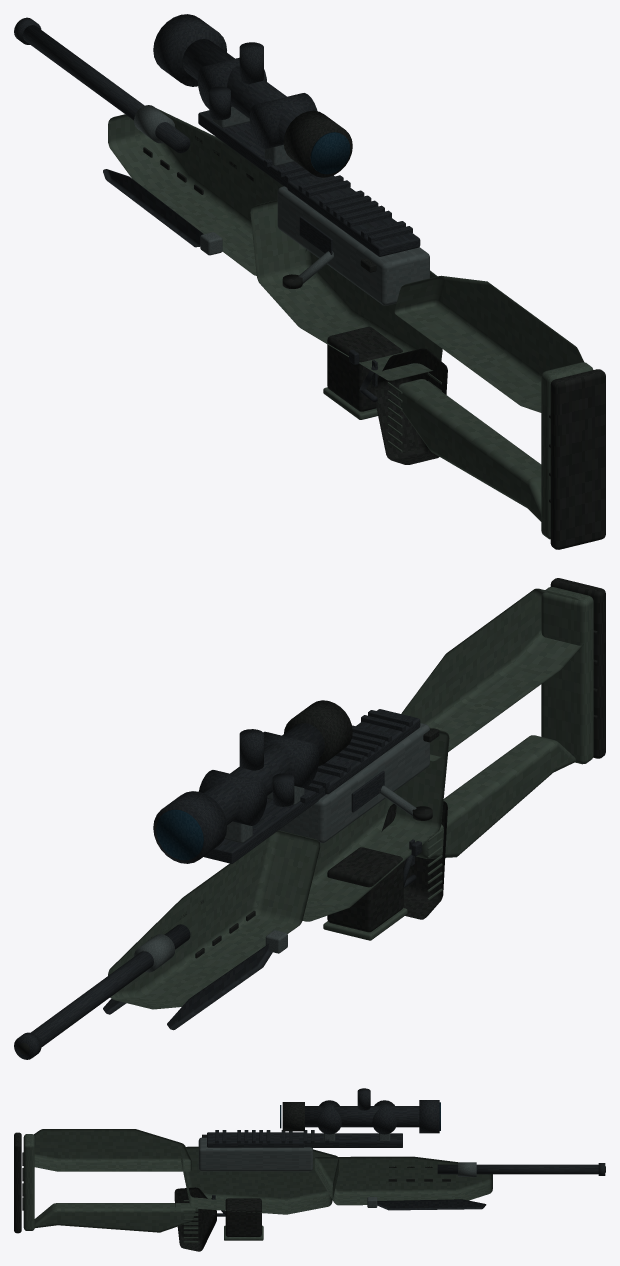
Rendered from scout-world.glb.
3 renders of one model, top to bottom at view 1: azimuth 30°, elevation 25°; view 2: azimuth 150°, elevation 25°; view 3: azimuth 270°, elevation 25°, orthographic. The views are drawn at different scales.
Parts seen in each view (by area): view 1: cheek-comb, forend, central-stock, rubber-butt-pad, lower-stock-strut, receiver, pistol-grip, magazine, free-floating-barrel, scope-tube, front-objective, receiver-top-rail (+10 smaller); view 2: forend, cheek-comb, central-stock, butt-frame, lower-stock-strut, receiver, magazine, free-floating-barrel, scope-tube, rubber-butt-pad, pistol-grip, scope-rail (+12 smaller); view 3: forend, cheek-comb, central-stock, lower-stock-strut, receiver, scope-tube, free-floating-barrel, magazine, pistol-grip, receiver-top-rail, scope-rail, butt-frame (+8 smaller).
Boxes of the visible parts, bbox=[...] form: cheek-comb: bbox=[394, 275, 583, 412]; forend: bbox=[108, 108, 306, 275]; central-stock: bbox=[250, 200, 442, 380]; rubber-butt-pad: bbox=[550, 369, 605, 549]; lower-stock-strut: bbox=[398, 379, 541, 521]; receiver: bbox=[277, 186, 429, 305]; pistol-grip: bbox=[373, 348, 447, 464]; magazine: bbox=[327, 326, 402, 411]; free-floating-barrel: bbox=[23, 25, 190, 153]; scope-tube: bbox=[182, 39, 306, 143]; front-objective: bbox=[153, 14, 226, 86]; receiver-top-rail: bbox=[287, 175, 420, 256]; forend: bbox=[108, 830, 320, 1009]; cheek-comb: bbox=[401, 588, 583, 761]; central-stock: bbox=[302, 727, 449, 921]; butt-frame: bbox=[541, 587, 593, 764]; lower-stock-strut: bbox=[416, 735, 576, 858]; receiver: bbox=[279, 723, 429, 842]; magazine: bbox=[327, 847, 403, 932]; free-floating-barrel: bbox=[31, 924, 190, 1047]; scope-tube: bbox=[203, 723, 324, 824]; rubber-butt-pad: bbox=[550, 578, 605, 758]; pistol-grip: bbox=[381, 801, 447, 919]; scope-rail: bbox=[204, 787, 325, 863]; forend: bbox=[314, 1156, 492, 1205]; cheek-comb: bbox=[33, 1129, 191, 1171]; central-stock: bbox=[181, 1146, 338, 1214]; lower-stock-strut: bbox=[34, 1203, 195, 1232]; receiver: bbox=[198, 1137, 312, 1171]; scope-tube: bbox=[305, 1106, 419, 1127]; free-floating-barrel: bbox=[437, 1164, 598, 1174]; magazine: bbox=[225, 1198, 261, 1236]; pistol-grip: bbox=[174, 1187, 216, 1251]; receiver-top-rail: bbox=[207, 1132, 304, 1147]; scope-rail: bbox=[305, 1133, 402, 1147]; butt-frame: bbox=[23, 1134, 34, 1230].
Size of the model in its own units: 0.1705 by 0.423 by 1.45.
Materials: 5 (5 with a texture image).
